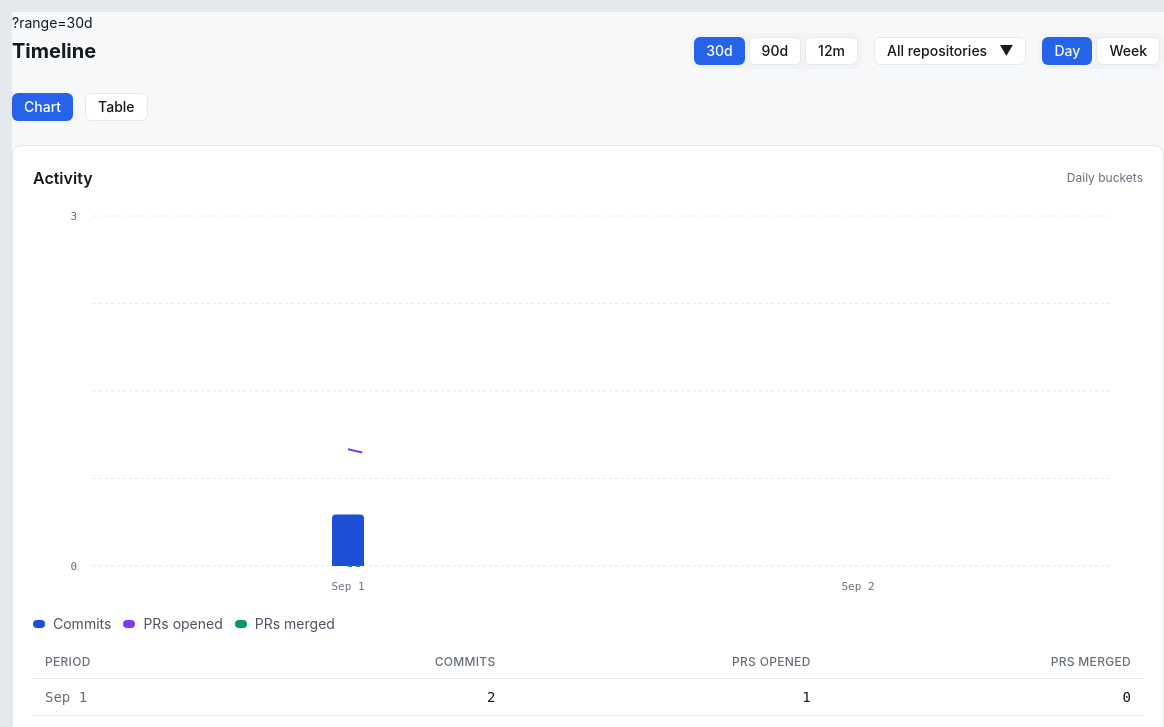
Test case: Timeline URL synchronization (T5.2) › changing the repository updates the URL repoId
Click the button named "Filter repositories".
click(950, 51)  # box [874,37,1026,65]
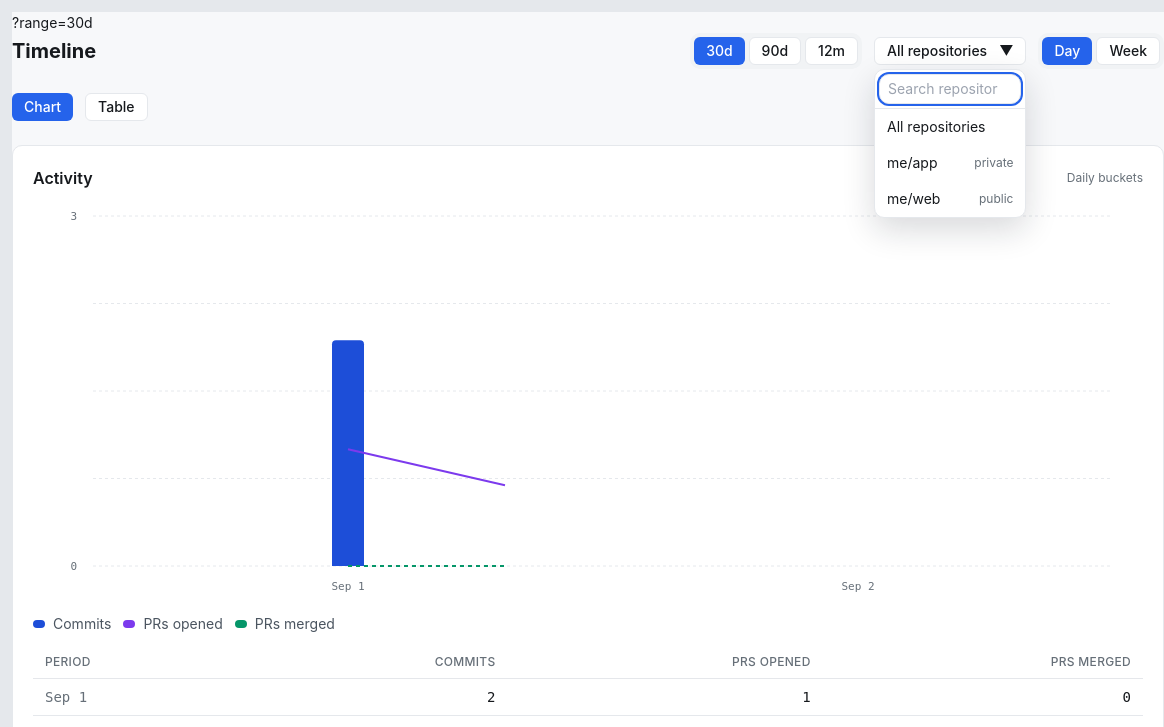
Click the option "me/web public".
click(950, 199)  # box [875,181,1026,217]
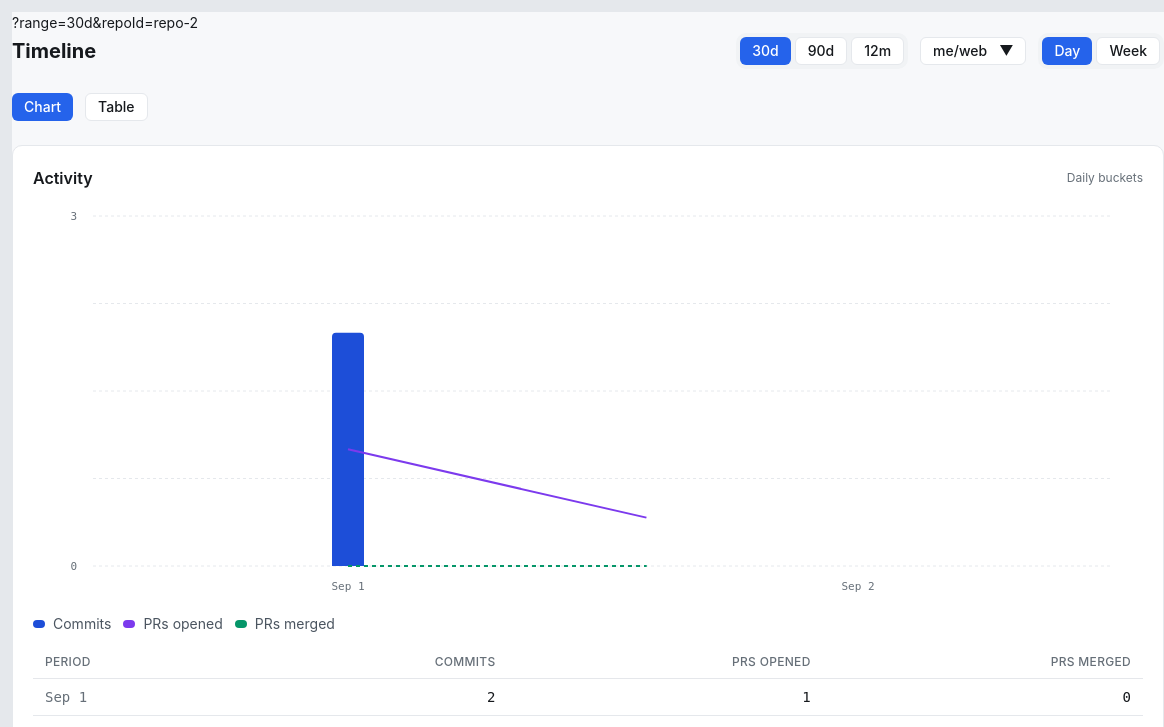
Result: the text with test id "router-search" shows "repoId=repo-2" at [12,14,198,31]
